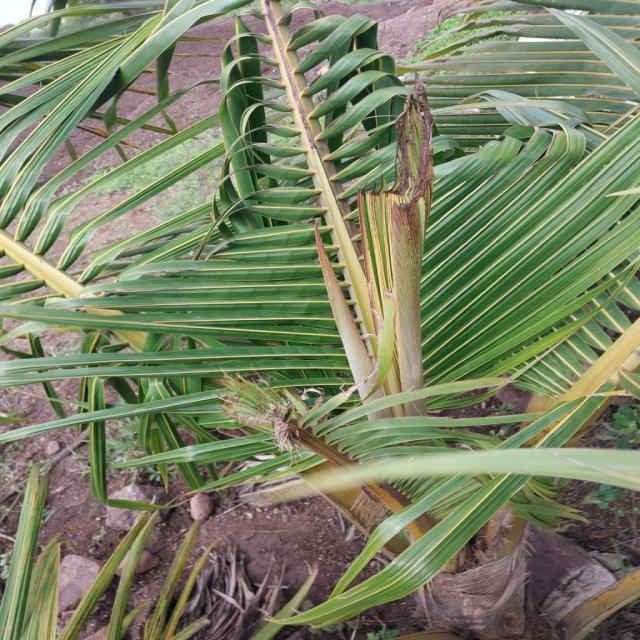bud rot: (387, 78, 433, 391)
